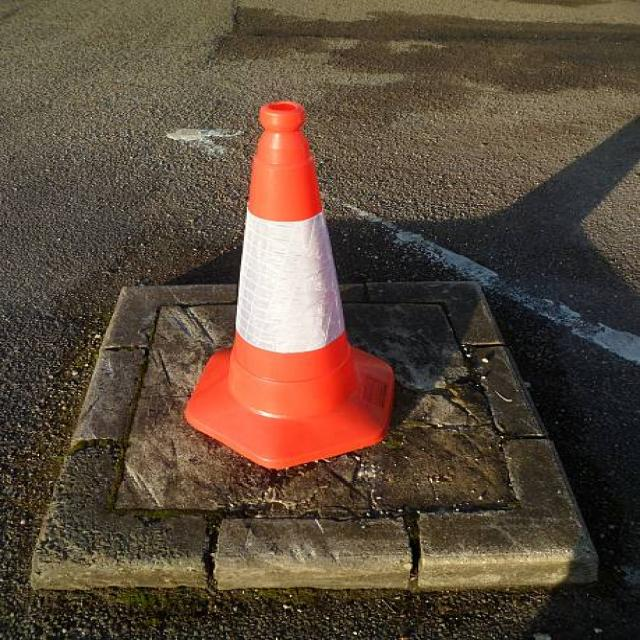Traffic Cone: (132, 68, 437, 478)
